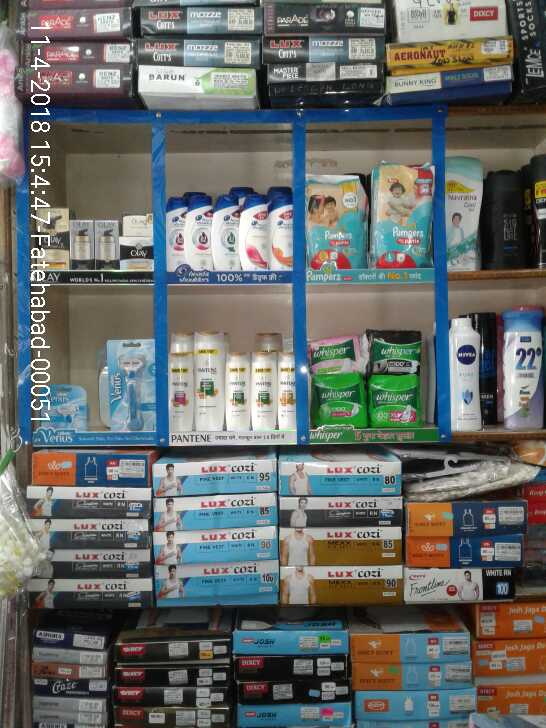venus: (105, 339, 158, 431), (36, 384, 88, 433)
